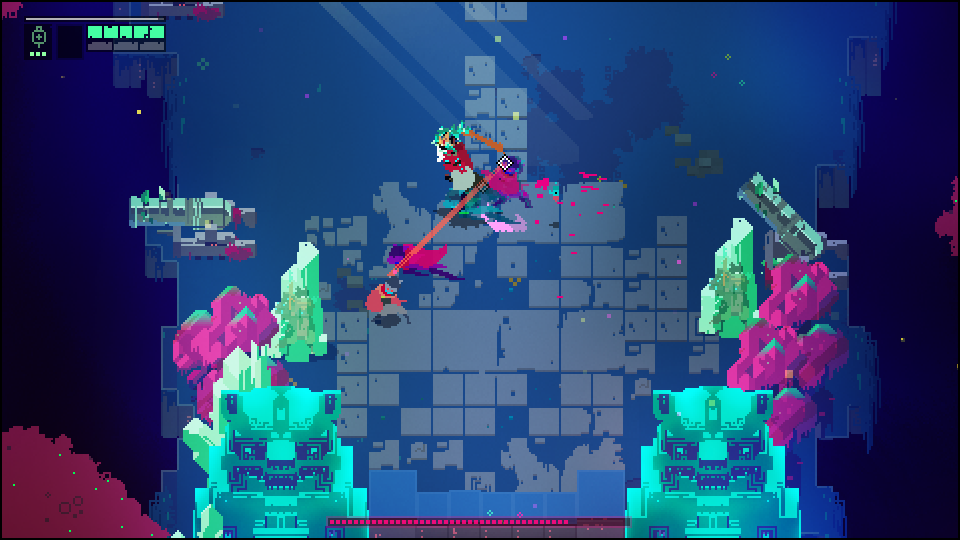hanged_man: (430, 119, 492, 207)
player: (363, 276, 416, 332)
